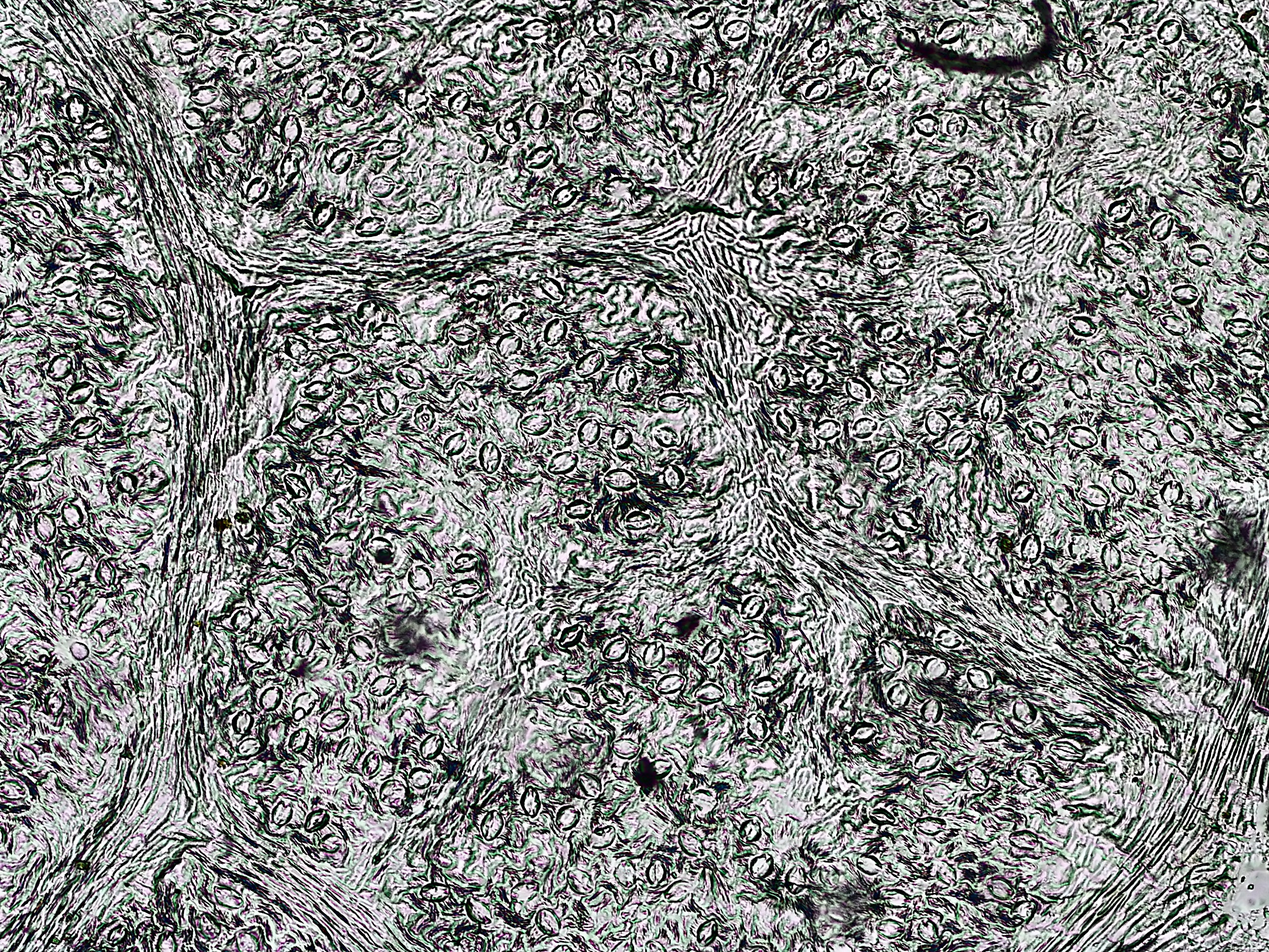stomata: (677, 828, 708, 859), (1202, 520, 1236, 546), (1050, 739, 1087, 762), (576, 348, 605, 377), (1138, 551, 1162, 586), (978, 391, 1004, 423), (1078, 483, 1110, 509), (478, 808, 503, 841), (1241, 171, 1265, 205), (52, 172, 85, 196), (353, 215, 386, 239), (605, 468, 638, 492), (825, 224, 858, 248), (1070, 422, 1098, 450), (69, 416, 103, 439), (456, 378, 479, 412), (1100, 540, 1123, 574), (1193, 361, 1215, 396), (642, 341, 674, 365), (520, 412, 552, 436), (59, 546, 86, 574), (204, 12, 240, 33), (846, 376, 874, 403), (558, 37, 584, 66), (1168, 417, 1194, 446), (340, 77, 365, 107), (548, 449, 578, 474), (479, 440, 501, 474), (317, 585, 351, 607), (20, 203, 51, 227), (573, 109, 604, 133), (935, 19, 966, 43), (271, 46, 303, 69), (279, 115, 302, 147), (1069, 370, 1092, 402), (738, 637, 773, 658), (290, 692, 317, 719), (1017, 760, 1044, 787), (0, 660, 26, 688), (497, 331, 523, 359), (409, 565, 435, 593), (1045, 591, 1073, 617), (396, 364, 425, 389), (263, 501, 292, 526), (467, 895, 492, 924), (983, 93, 1008, 122), (1240, 102, 1269, 127), (56, 238, 86, 262), (51, 274, 81, 298), (1186, 243, 1216, 267), (21, 459, 52, 482), (544, 315, 567, 346), (497, 113, 520, 144), (519, 18, 550, 41), (973, 719, 1004, 742), (1233, 347, 1265, 369), (880, 639, 902, 671), (16, 743, 42, 770), (300, 74, 327, 100), (1071, 110, 1098, 136), (1136, 425, 1162, 452), (934, 859, 960, 886), (238, 97, 266, 122), (245, 175, 270, 203), (283, 473, 311, 498), (535, 908, 560, 936), (881, 360, 909, 385), (63, 93, 87, 122), (566, 869, 595, 893), (619, 56, 643, 85), (754, 169, 778, 198), (878, 211, 907, 235), (1150, 214, 1174, 243), (750, 852, 774, 881), (521, 784, 542, 817), (853, 185, 886, 206), (750, 677, 783, 698), (48, 350, 71, 380), (199, 910, 222, 940), (328, 146, 351, 176), (413, 202, 443, 225), (376, 386, 399, 416), (602, 175, 633, 197), (567, 721, 598, 743), (368, 536, 394, 562), (380, 779, 406, 805), (687, 4, 713, 30), (1226, 407, 1252, 433), (83, 147, 110, 172), (925, 408, 950, 435), (964, 765, 989, 792), (62, 502, 86, 530), (329, 353, 361, 374), (327, 533, 355, 557), (321, 707, 349, 731), (468, 133, 489, 165), (650, 46, 674, 74), (1102, 242, 1134, 263), (1223, 316, 1255, 337), (694, 684, 726, 705), (923, 784, 955, 805), (367, 174, 396, 197), (508, 368, 538, 390), (508, 880, 538, 902), (1030, 119, 1052, 149), (396, 336, 427, 357), (349, 635, 375, 660), (419, 733, 444, 759), (865, 66, 891, 91), (1010, 479, 1036, 504), (603, 636, 628, 662), (1007, 70, 1034, 94), (818, 863, 842, 890), (5, 304, 33, 327), (66, 381, 94, 404), (578, 418, 601, 446), (1207, 83, 1230, 111), (1135, 357, 1158, 385), (375, 137, 404, 159), (414, 402, 436, 431), (855, 0, 884, 22), (1113, 466, 1135, 495), (834, 488, 863, 510), (507, 817, 528, 847), (370, 322, 403, 341), (1025, 420, 1050, 445), (578, 772, 603, 797), (312, 200, 336, 226), (577, 71, 601, 97), (964, 212, 990, 236), (647, 756, 673, 780), (349, 30, 376, 53), (843, 144, 870, 167), (948, 431, 971, 458), (303, 381, 334, 401), (870, 249, 901, 269), (609, 738, 640, 758), (615, 860, 637, 888), (791, 164, 813, 192), (643, 641, 665, 669), (656, 673, 684, 695), (563, 686, 591, 708), (987, 878, 1015, 900), (34, 512, 55, 541), (615, 364, 636, 393), (663, 881, 692, 902), (418, 881, 450, 900), (3, 155, 28, 179), (369, 676, 399, 696), (426, 851, 456, 871), (555, 805, 580, 829), (591, 826, 616, 850), (612, 90, 636, 115), (694, 63, 714, 93), (1107, 199, 1132, 223), (957, 315, 987, 335), (1161, 312, 1186, 336), (1021, 533, 1041, 563), (1012, 898, 1036, 923), (215, 885, 241, 908), (302, 809, 328, 832), (1070, 314, 1096, 337), (1098, 349, 1121, 375), (887, 682, 910, 708), (914, 750, 940, 773), (692, 788, 718, 811), (740, 817, 763, 843), (97, 299, 124, 321), (526, 146, 553, 168), (552, 185, 579, 207), (722, 20, 749, 42), (1092, 590, 1114, 617), (1015, 698, 1037, 725), (786, 866, 808, 893), (96, 560, 117, 588), (920, 696, 941, 724), (1010, 830, 1038, 851), (697, 919, 717, 948), (407, 83, 427, 112), (916, 815, 945, 835), (3, 705, 27, 729), (189, 86, 221, 104), (355, 299, 379, 323), (896, 27, 920, 51), (1126, 274, 1150, 298), (285, 336, 310, 359), (611, 424, 634, 449), (230, 608, 253, 633), (804, 79, 829, 102), (802, 365, 825, 390), (877, 319, 900, 344), (875, 449, 900, 472), (0, 779, 26, 801), (173, 33, 199, 55), (1161, 19, 1183, 45), (892, 509, 918, 531), (600, 682, 626, 704), (700, 637, 722, 663), (855, 852, 881, 874), (467, 280, 497, 299), (875, 919, 905, 938), (660, 393, 687, 414), (949, 163, 976, 184), (1171, 283, 1198, 304), (883, 888, 910, 909), (281, 154, 301, 182), (361, 750, 381, 778), (813, 419, 841, 439), (932, 347, 960, 367), (452, 580, 483, 598), (270, 545, 294, 568), (258, 686, 281, 710), (1011, 573, 1034, 597), (739, 595, 763, 618), (923, 657, 946, 681), (969, 667, 992, 691), (621, 904, 650, 923), (810, 340, 839, 359), (1019, 358, 1041, 383), (90, 262, 116, 283), (292, 629, 313, 655), (527, 103, 548, 129), (593, 11, 614, 37), (1064, 48, 1085, 74), (851, 417, 877, 438), (850, 722, 876, 743), (451, 325, 478, 345), (501, 302, 528, 322), (646, 860, 666, 887), (1216, 141, 1243, 161), (1112, 644, 1139, 664), (747, 713, 766, 741), (234, 53, 257, 76), (220, 130, 243, 153), (662, 465, 685, 488), (806, 38, 829, 61), (541, 276, 563, 300), (443, 433, 467, 455), (917, 185, 939, 209), (1160, 482, 1182, 506), (235, 931, 260, 952), (654, 425, 679, 446), (338, 405, 364, 425), (244, 643, 270, 663), (937, 628, 963, 648), (290, 727, 309, 754), (625, 511, 652, 530), (912, 114, 939, 133), (0, 228, 16, 260), (311, 324, 343, 340), (182, 106, 205, 128), (1247, 241, 1269, 264), (303, 22, 327, 43), (408, 767, 432, 788), (89, 122, 114, 142), (235, 736, 260, 756), (335, 737, 355, 762), (877, 532, 902, 552), (295, 404, 321, 423), (454, 553, 480, 572), (273, 800, 292, 826), (1236, 395, 1262, 414), (205, 157, 225, 181), (448, 90, 468, 114), (776, 408, 795, 433), (45, 691, 63, 717), (919, 918, 937, 944), (560, 624, 581, 646), (155, 932, 178, 952), (835, 59, 855, 82), (769, 366, 789, 389), (1115, 385, 1138, 405), (565, 501, 592, 518), (231, 709, 250, 733), (954, 0, 992, 12), (117, 471, 137, 493), (143, 0, 174, 14), (319, 833, 343, 851), (948, 114, 966, 138), (869, 807, 894, 824), (36, 133, 57, 153), (107, 925, 128, 945), (991, 806, 1017, 822), (54, 591, 76, 609), (240, 0, 273, 12), (30, 643, 50, 662), (543, 0, 577, 11), (70, 641, 89, 660), (644, 939, 666, 952)
